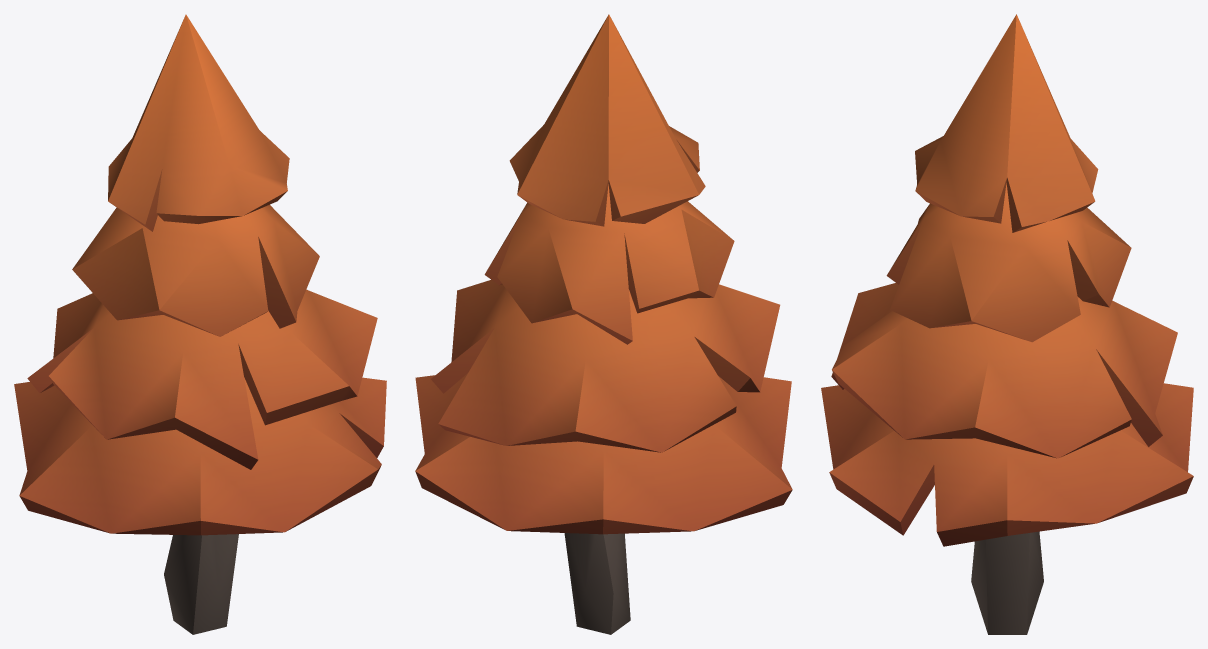
The model's file is cc0-tree-pine-lod1.glb.
The picture shows the model from 3 angles, left to right: view 1: azimuth 30°, elevation 25°; view 2: azimuth 150°, elevation 25°; view 3: azimuth 270°, elevation 25°; orthographic projection.
Visible parts, largest first — view 1: part_0; view 2: part_0; view 3: part_0.
Boxes of the visible parts, <box> form: part_0: <box>14,14,386,634</box>; part_0: <box>415,14,792,634</box>; part_0: <box>821,14,1193,634</box>.
Size of the model in its own units: 4.76 by 7.48 by 4.15.
1 material, 1 textured.
